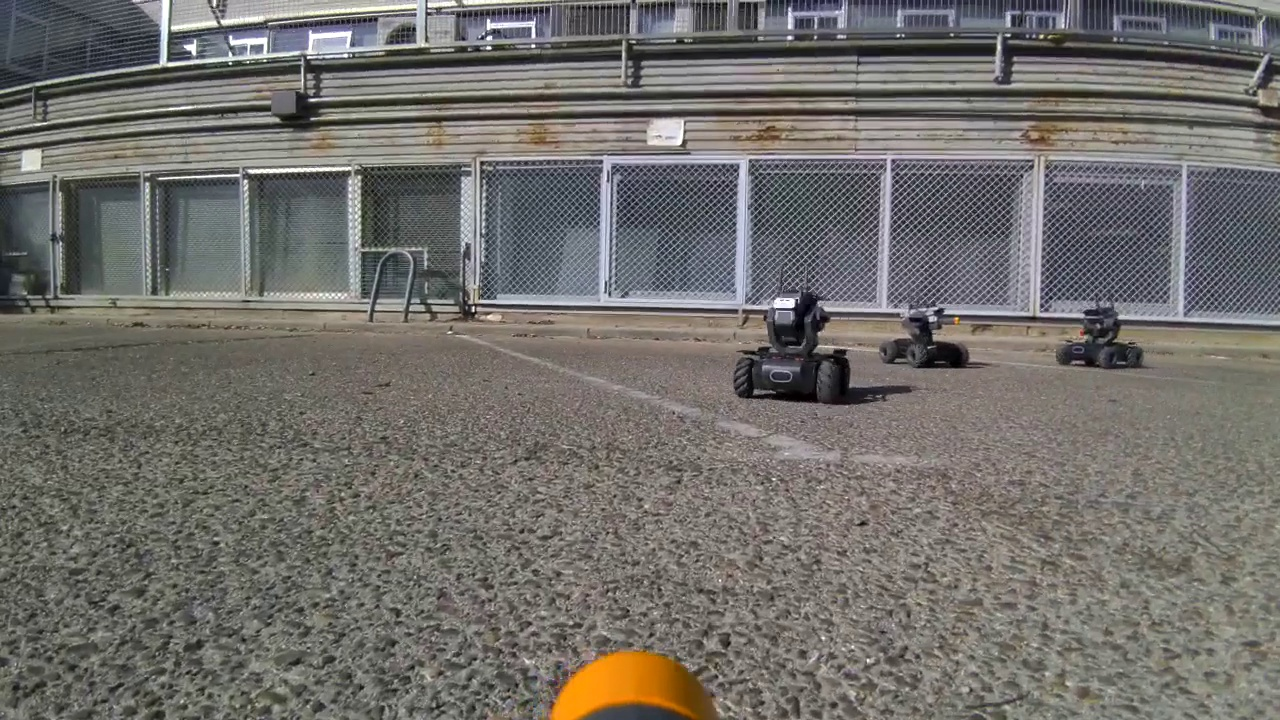robot: (730, 268, 851, 415), (1049, 289, 1156, 383), (867, 293, 979, 372)
